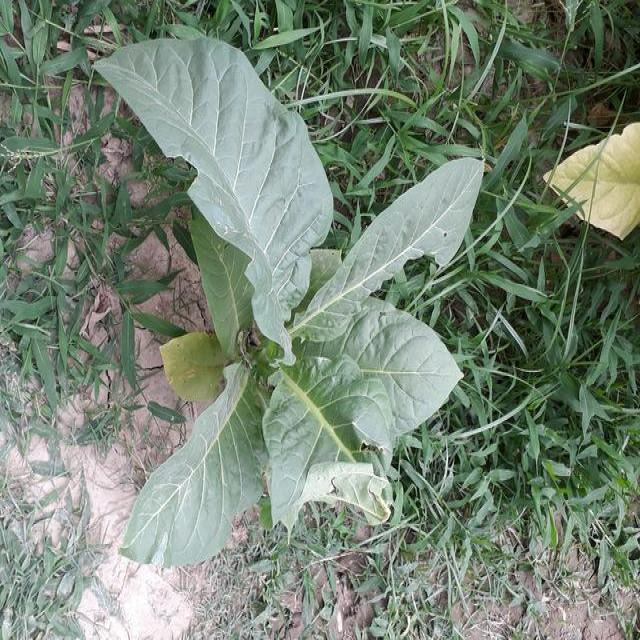crop: (88, 39, 486, 583)
